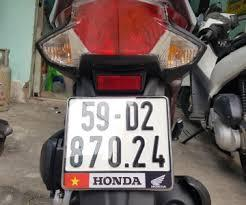numplate: (60, 94, 173, 191)
